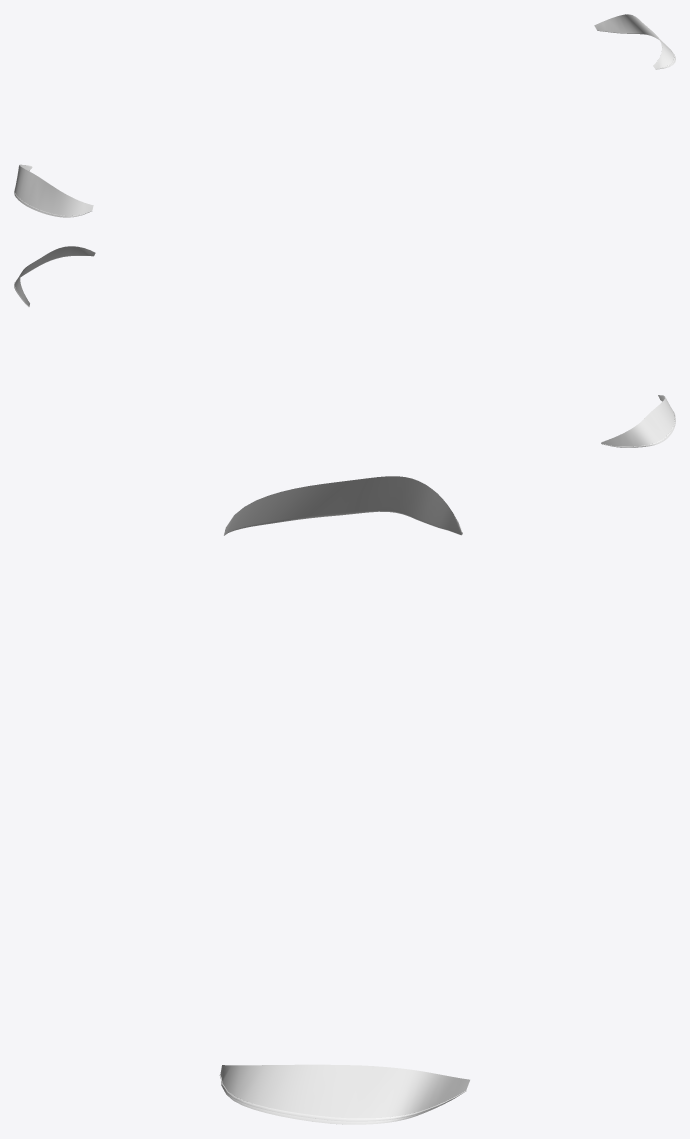
Rendered from Jac_Flic_HANDS_V2.glb.
3 views of the same model, one above another, from view 1: azimuth 30°, elevation 25°; view 2: azimuth 150°, elevation 25°; view 3: azimuth 270°, elevation 25° (orthographic). The views are drawn at different scales.
Parts seen in each view (by area): view 1: Jac_Flic_Hands.001; view 2: Jac_Flic_Hands.001; view 3: Jac_Flic_Hands.001.
Part boxes in pixels (x1,y1,x2,y2): Jac_Flic_Hands.001: (14, 14, 675, 217); Jac_Flic_Hands.001: (14, 246, 675, 447); Jac_Flic_Hands.001: (220, 476, 469, 1124).
Size of the model in its own units: 1.19 by 0.0502 by 0.2021.
Materials: 2 (2 with a texture image).
